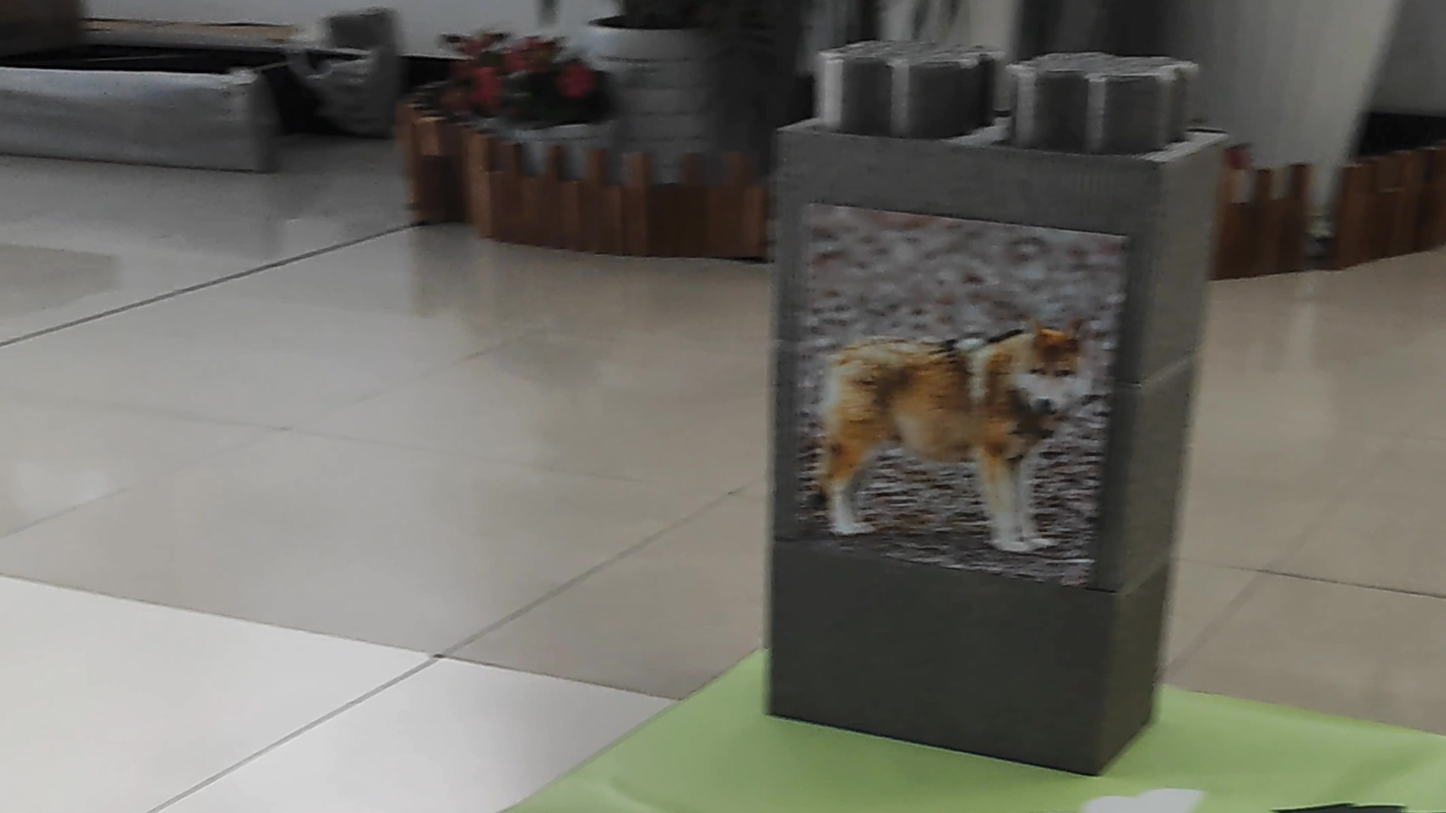wolf: (778, 279, 1106, 571)
